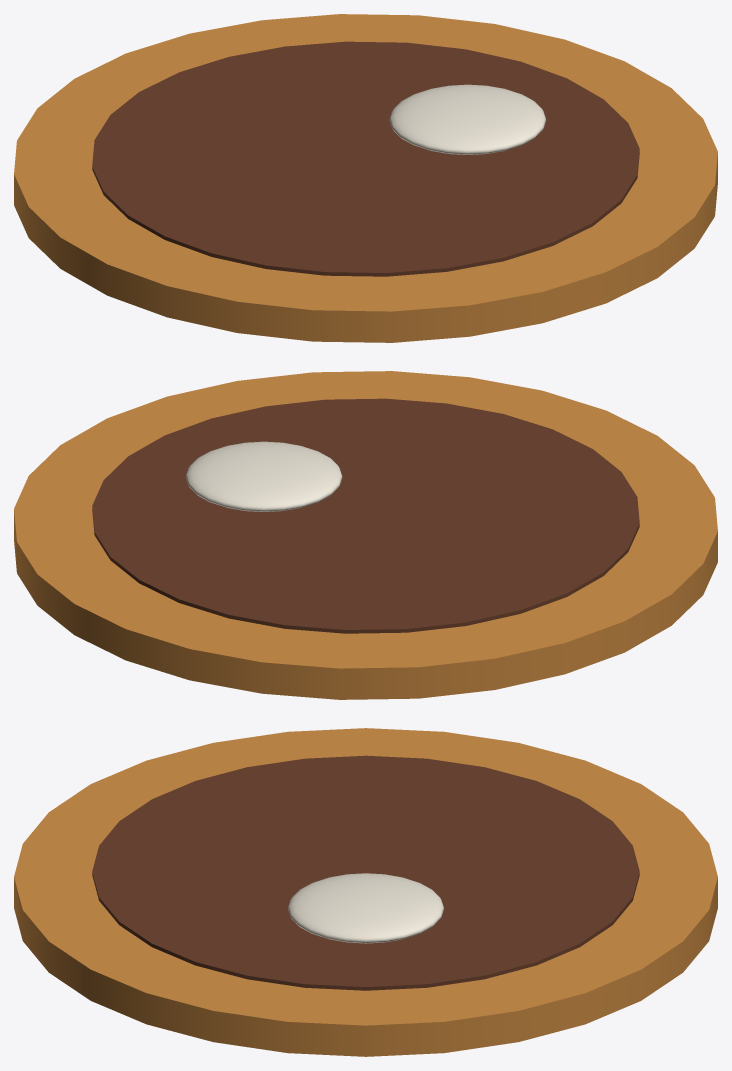
The model's file is wp-crepe-garnie.glb.
The picture shows the model from 3 angles, top to bottom: view 1: azimuth 30°, elevation 25°; view 2: azimuth 150°, elevation 25°; view 3: azimuth 270°, elevation 25°; orthographic projection.
Parts seen in each view (by area): view 1: wp-crepe-garnie; view 2: wp-crepe-garnie; view 3: wp-crepe-garnie.
Part boxes in pixels (bbox=[...]): wp-crepe-garnie: bbox=[14, 14, 717, 342]; wp-crepe-garnie: bbox=[14, 371, 717, 699]; wp-crepe-garnie: bbox=[14, 728, 717, 1056].
Bounding box in the file's own units: 0.26 × 0.025 × 0.26.
